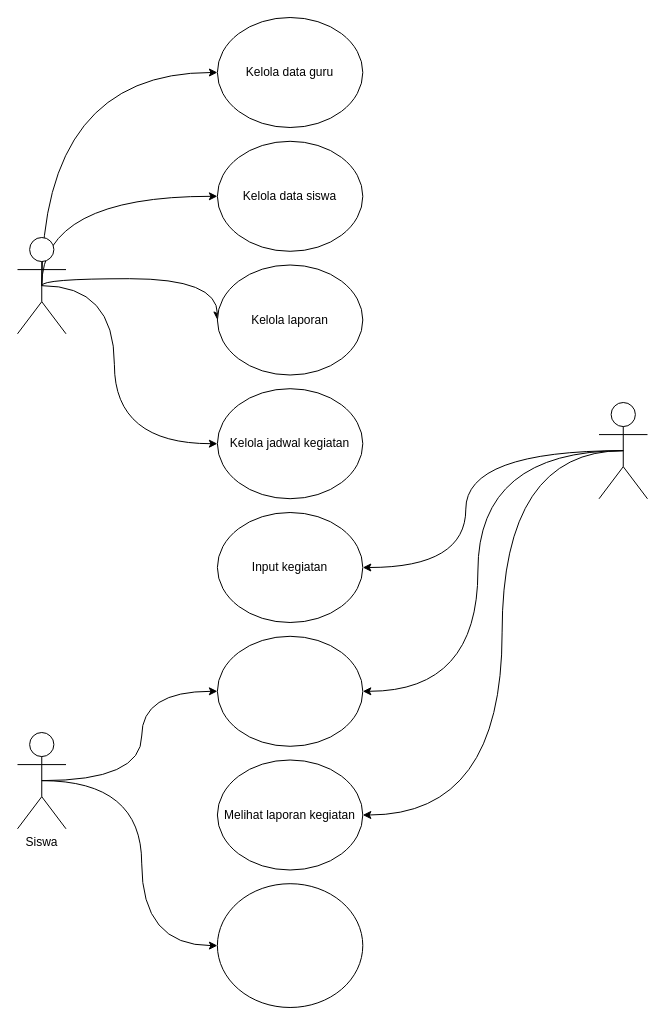
The diagram is 665 pixels wide and 1025 high, and some of its shapes have lost their labels. The shapes that lost their labels are listed below. From the top down, each one's box as (x1, y1, x2, y2) in pixels, then its label:
(16, 236, 66, 334): Admin
(598, 402, 648, 499): Guru
(216, 635, 363, 746): Melihat jadwal kegiatan
(216, 883, 363, 1008): Melihat informasi kegiatan/agenda sekolah
